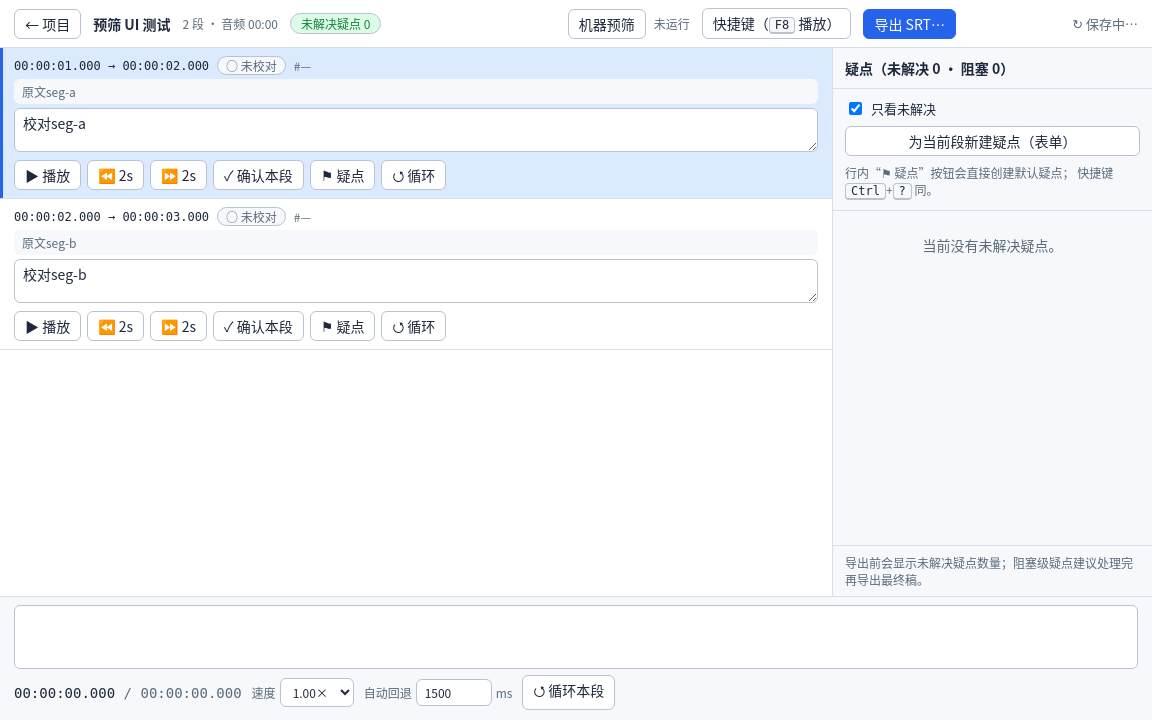
Scenario: PrefilterPanel 入口与降级（AC-071） › 未配置：显示配置提示与服务端环境变量名；无“开始预筛”run 请求
Click the button "机器预筛": (607, 24) [568,8,646,38]
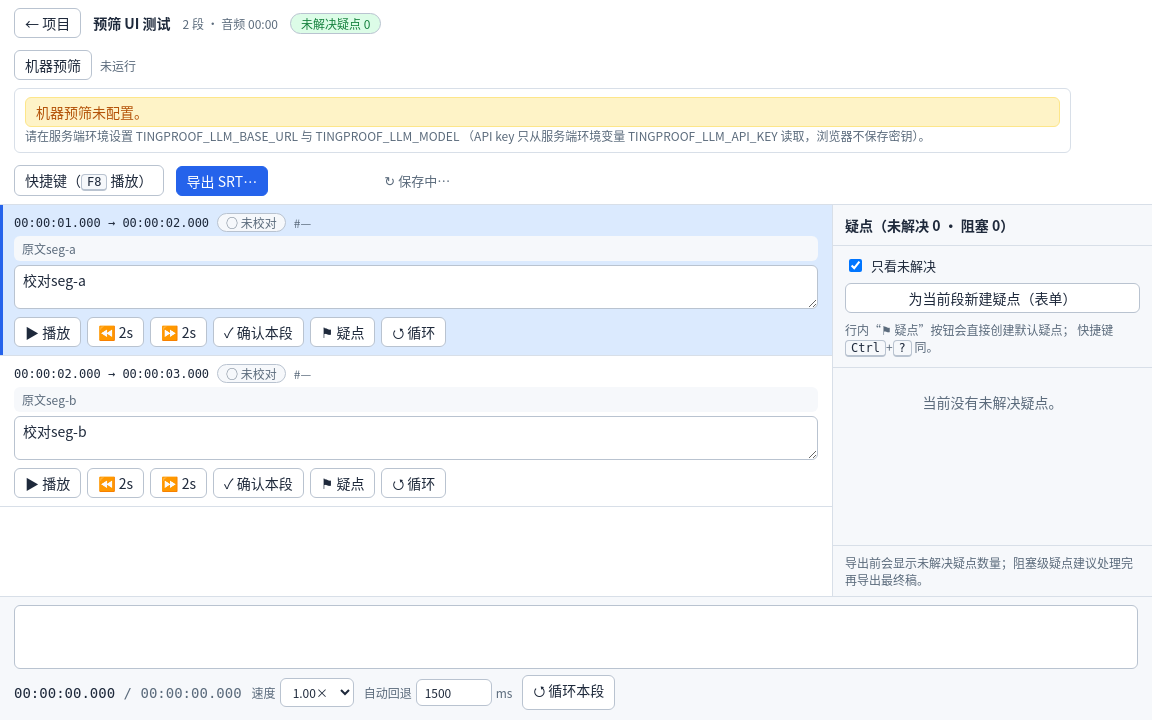
Now the text "机器预筛未配置。" is shown, box [25,97,1060,127]
Now the text "TINGPROOF_LLM_BASE_URL" is shown, box [25,127,930,144]
